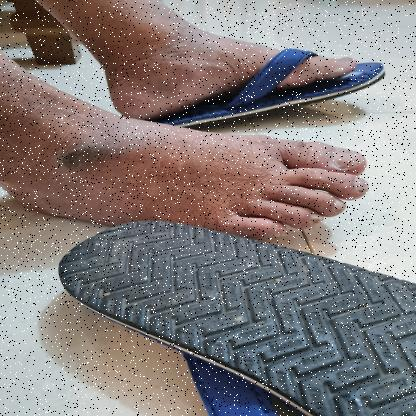leg: (0, 49, 381, 245), (40, 0, 398, 128)
